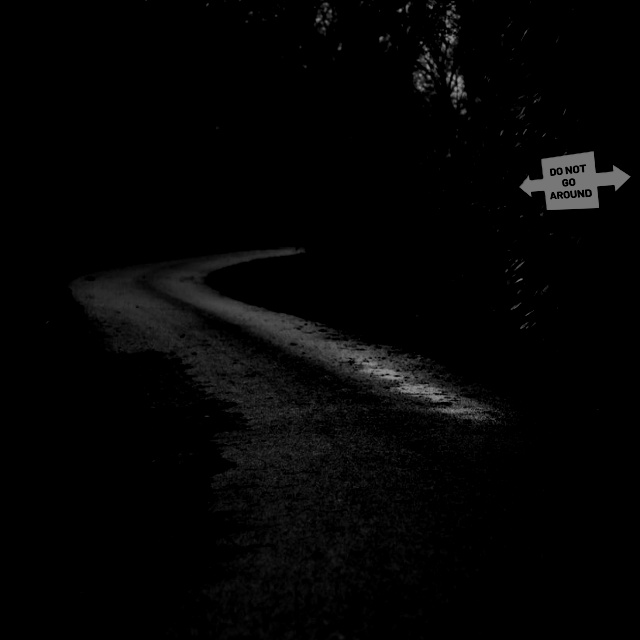DO_NOT_GO_AROUND: (518, 150, 632, 211)
